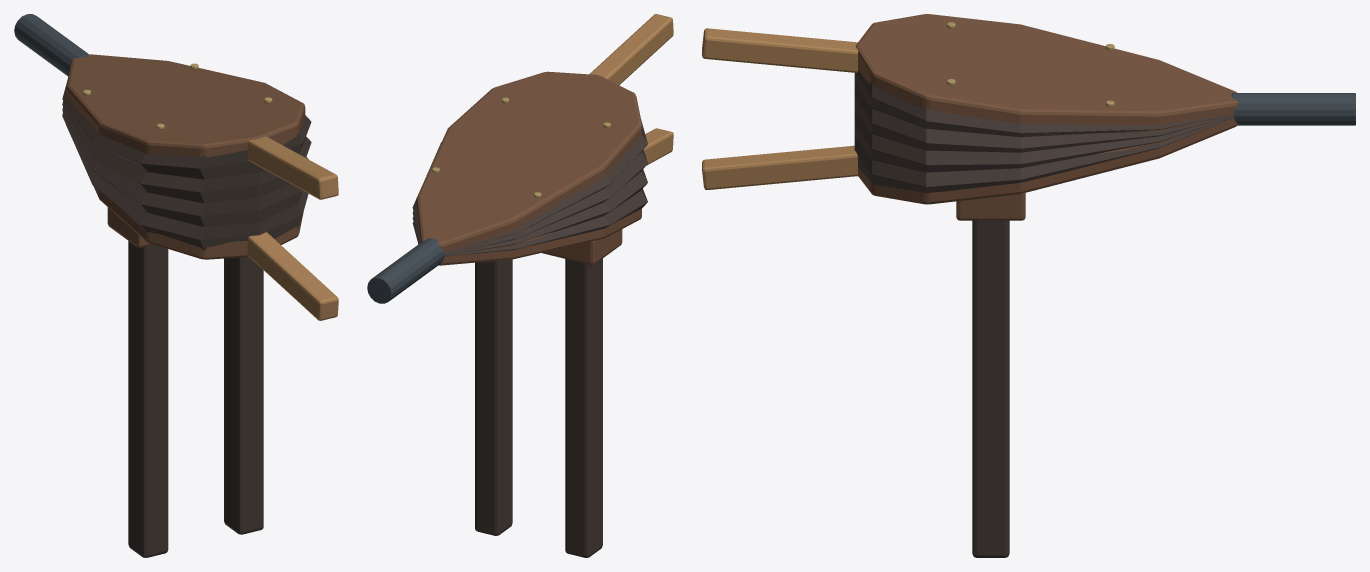
The model's file is forge_hand_bellows.glb.
3 renders of one model, left to right at view 1: azimuth 30°, elevation 25°; view 2: azimuth 150°, elevation 25°; view 3: azimuth 270°, elevation 25°, orthographic. The views are drawn at different scales.
Visible parts, largest first — view 1: Bellows upper board, Folded leather chamber, Bellows rack leg, Bellows rack leg.001, Bellows handle, Bellows handle.001, Bellows lower board, Air nozzle, Bellows rack saddle; view 2: Bellows upper board, Bellows rack leg, Bellows rack leg.001, Folded leather chamber, Bellows handle.001, Air nozzle, Bellows lower board, Bellows rack saddle, Bellows handle; view 3: Bellows upper board, Folded leather chamber, Bellows rack leg.001, Bellows handle.001, Bellows handle, Bellows lower board, Air nozzle, Bellows rack saddle.
Boxes of the visible parts, left/top/right/bottom form: Bellows upper board: left=66, top=54, right=305, bottom=157; Folded leather chamber: left=62, top=80, right=311, bottom=250; Bellows rack leg: left=128, top=241, right=168, bottom=557; Bellows rack leg.001: left=224, top=257, right=263, bottom=534; Bellows handle: left=247, top=232, right=338, bottom=320; Bellows handle.001: left=247, top=136, right=338, bottom=199; Bellows lower board: left=66, top=125, right=303, bottom=259; Air nozzle: left=14, top=14, right=88, bottom=76; Bellows rack saddle: left=107, top=207, right=153, bottom=247; Bellows upper board: left=416, top=71, right=641, bottom=258; Bellows rack leg: left=565, top=258, right=602, bottom=557; Bellows rack leg.001: left=475, top=259, right=512, bottom=535; Folded leather chamber: left=412, top=119, right=647, bottom=256; Bellows handle.001: left=589, top=14, right=673, bottom=85; Air nozzle: left=367, top=238, right=444, bottom=303; Bellows lower board: left=420, top=209, right=641, bottom=265; Bellows rack saddle: left=542, top=229, right=622, bottom=264; Bellows handle: left=643, top=128, right=673, bottom=165; Bellows upper board: left=855, top=14, right=1237, bottom=132; Folded leather chamber: left=854, top=69, right=1234, bottom=193; Bellows rack leg.001: left=972, top=220, right=1009, bottom=557; Bellows handle.001: left=702, top=28, right=858, bottom=72; Bellows handle: left=702, top=145, right=857, bottom=189; Bellows lower board: left=858, top=110, right=1237, bottom=204; Air nozzle: left=1231, top=93, right=1355, bottom=125; Bellows rack saddle: left=956, top=193, right=1025, bottom=220.
Bounding box in the file's own units: 0.4511 × 1.1 × 1.32.
